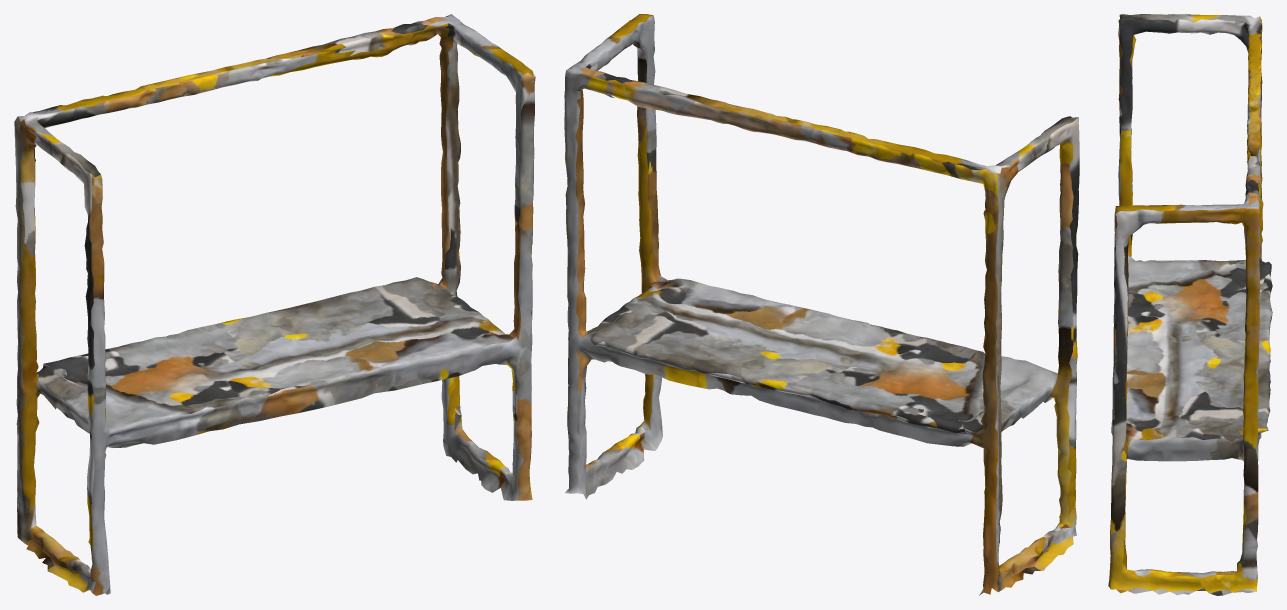
The model's file is shelf.obj.
3 views of the same model, side by side, from view 1: azimuth 30°, elevation 25°; view 2: azimuth 150°, elevation 25°; view 3: azimuth 270°, elevation 25° (orthographic). The views are drawn at different scales.
Parts seen in each view (by area): view 1: shelf; view 2: shelf; view 3: shelf.
Part boxes in pixels (<box>): shelf: <box>14,14,535,595</box>; shelf: <box>564,14,1079,595</box>; shelf: <box>1108,14,1272,595</box>.
Size of the model in its own units: 0.5624 by 0.5273 by 0.1995.
